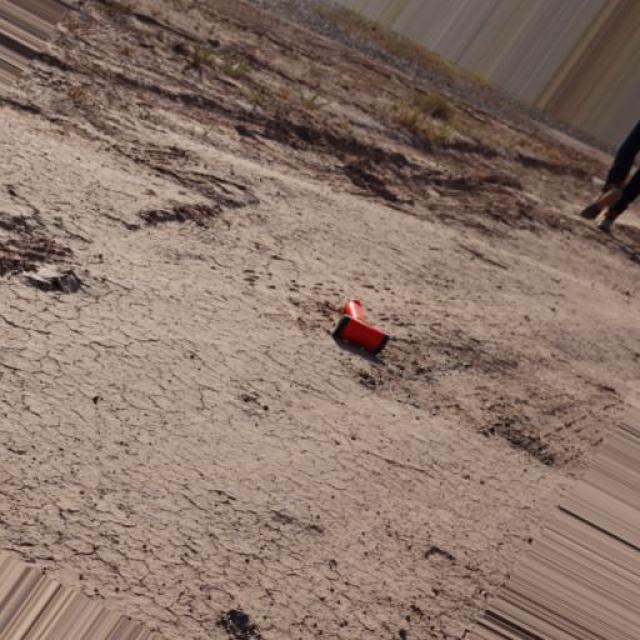mallet: (331, 298, 390, 357)
